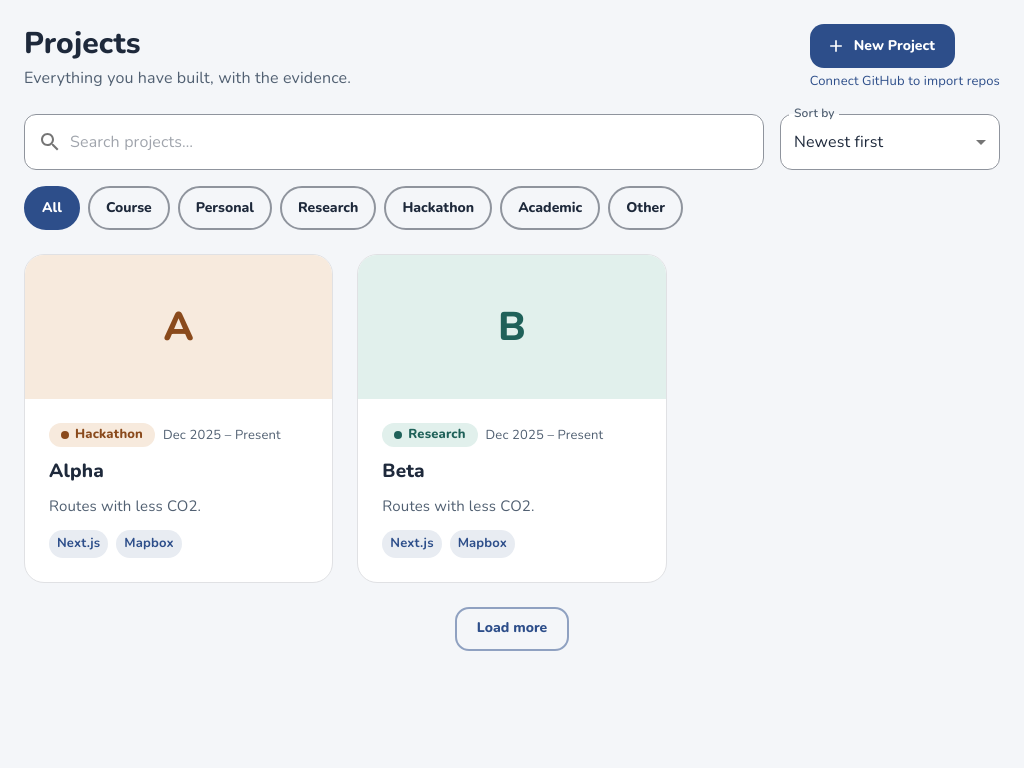
Test: /projects › shows a failed 'load more' as an error and keeps what is on screen and the button
Click the button "Load more".
click(512, 629)  # box [455,607,569,651]
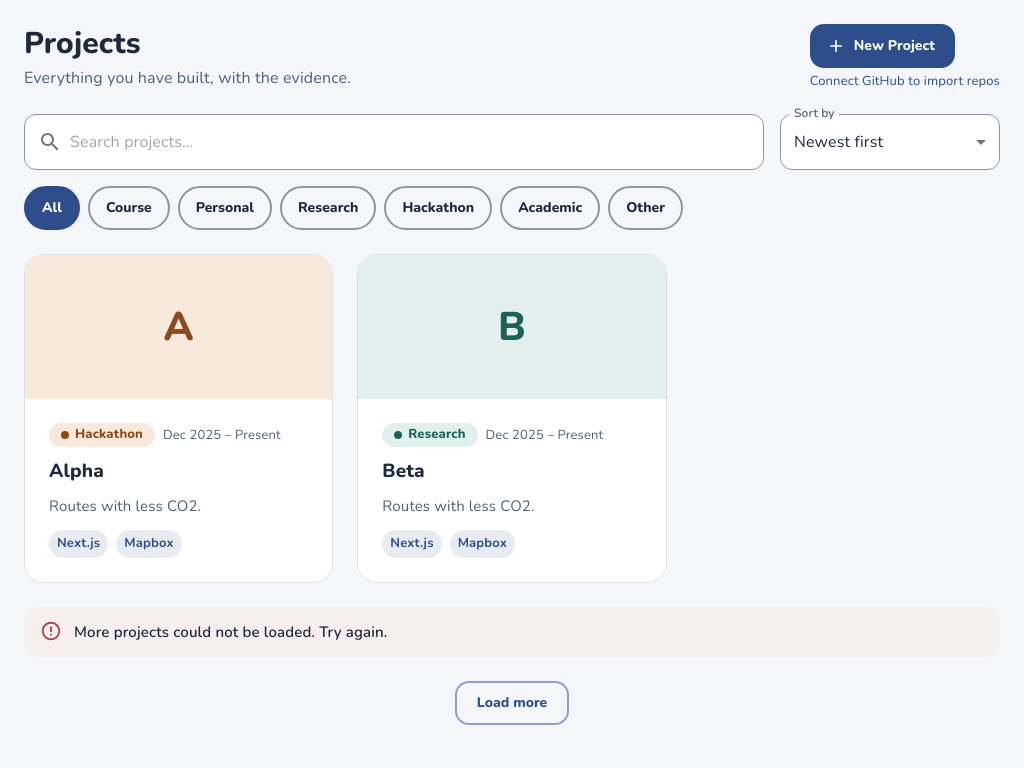
Expected: the button "Load more" is enabled, [455,681,569,725]
Expected: the message shows "More projects could not be loaded", [74,622,388,642]
